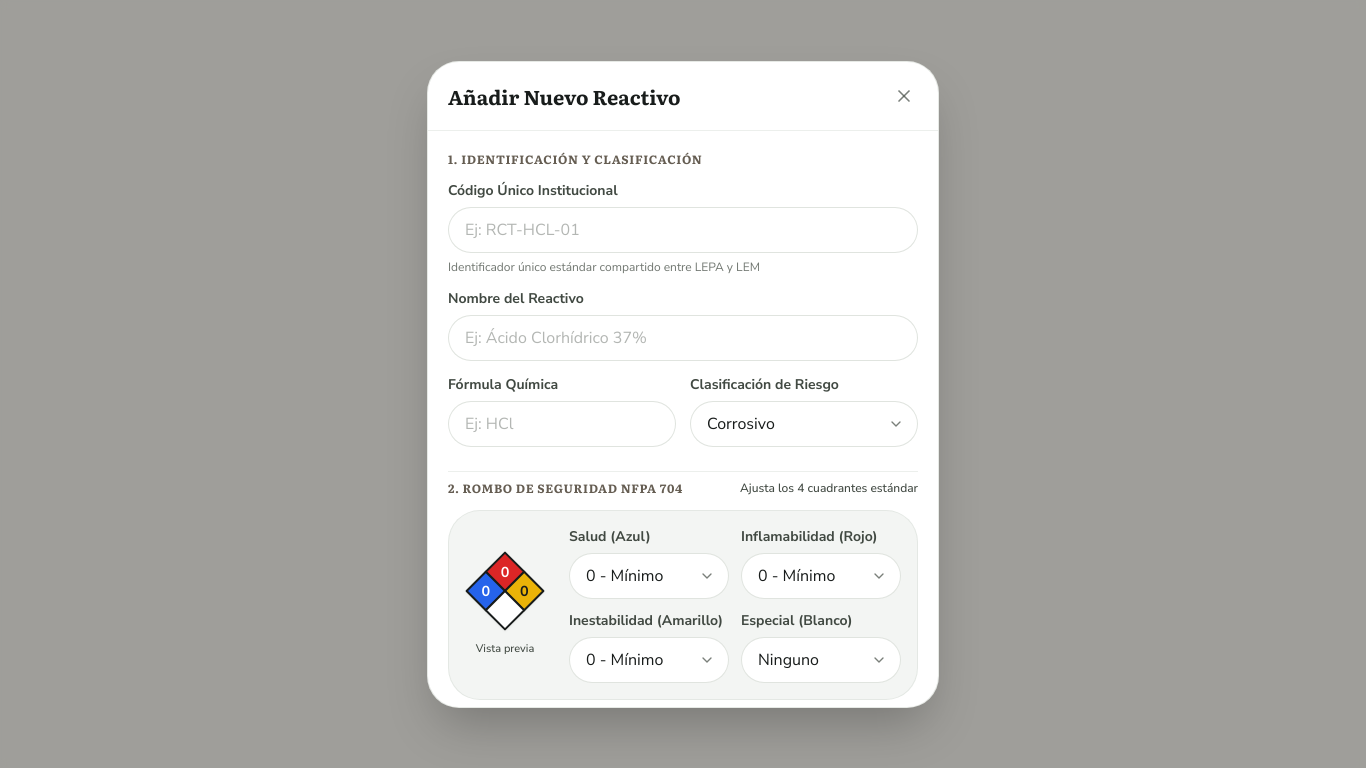
Scenario: ReagentFormModal Component › checks code availability in real-time when user types code (HU03 Criterio 2)
Type "RCT-ACET-01" into the field with placeholder "Ej: RCT-HCL-01" at (683, 230), box [448,206,918,252]
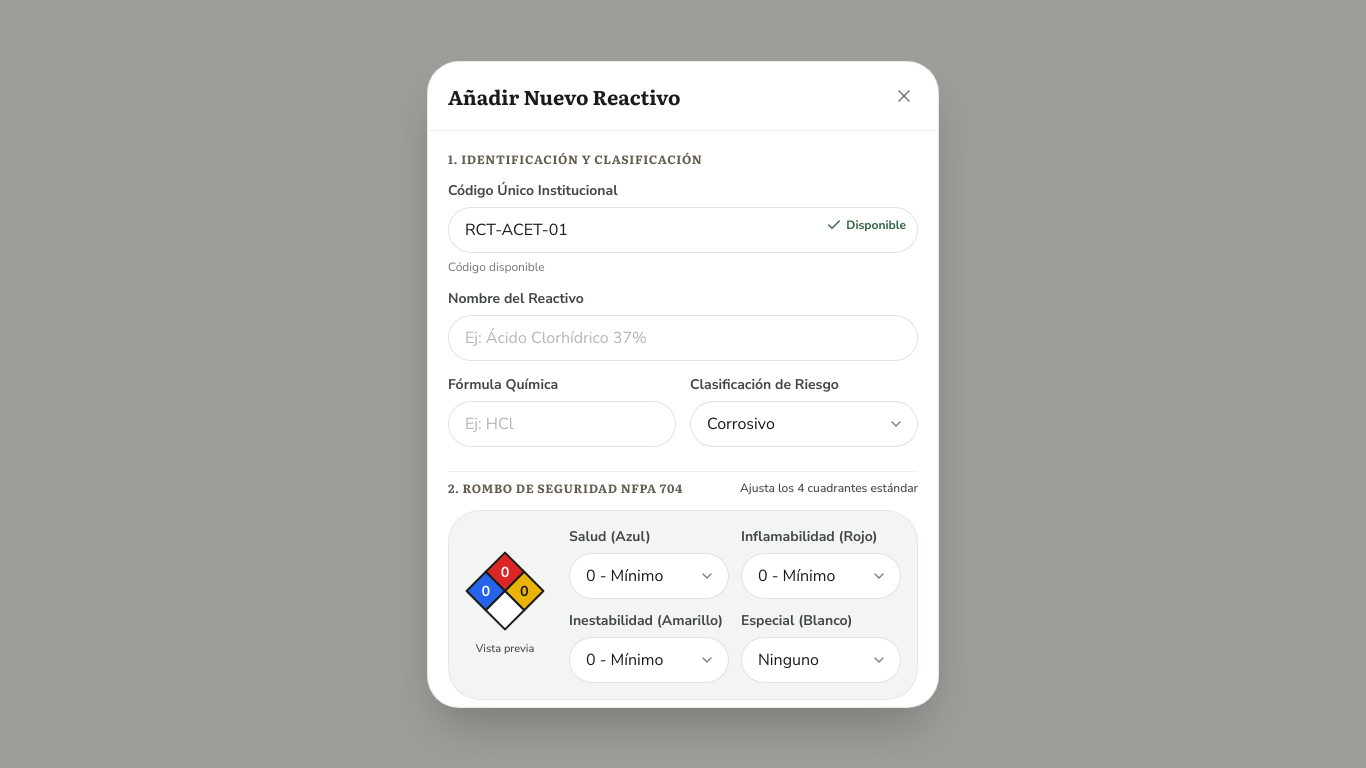
Now the text "Código disponible" is shown, box [448,258,545,274]
